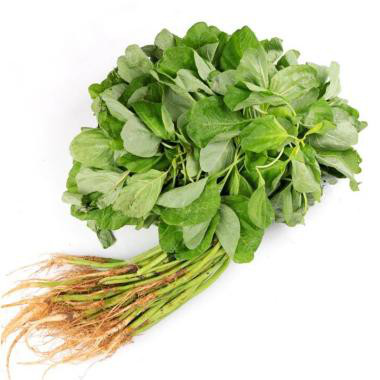Bayam: (24, 19, 370, 380)
